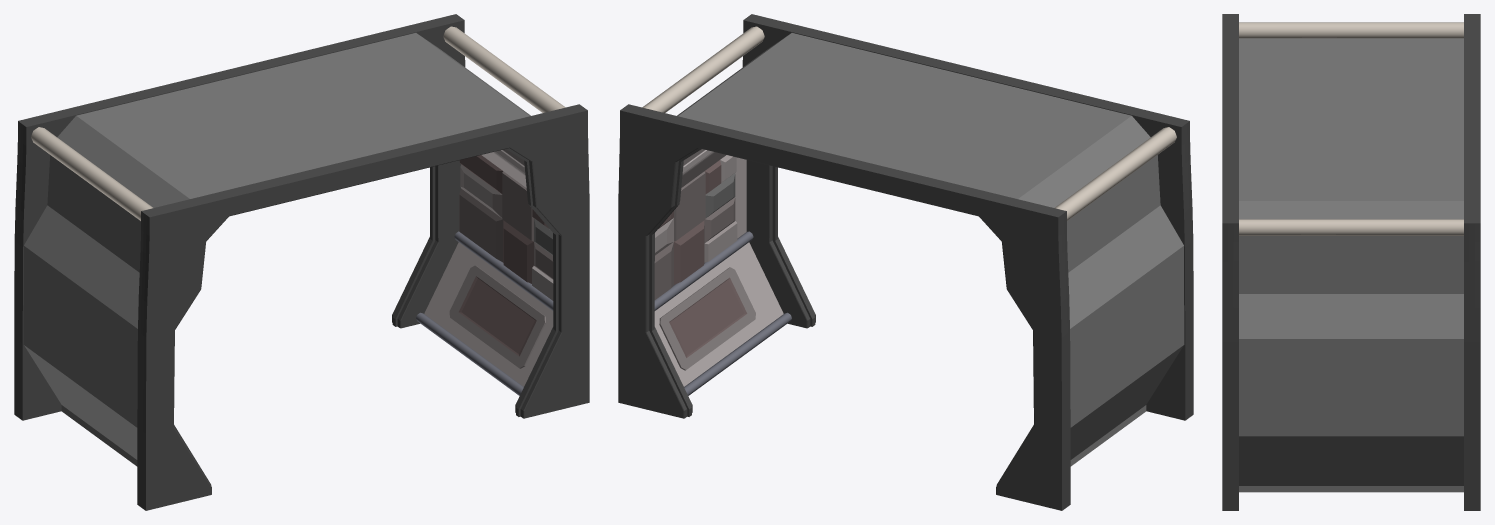
The model's file is Hallway_Module_StraightHalf_01.glb.
The picture shows the model from 3 angles, left to right: view 1: azimuth 30°, elevation 25°; view 2: azimuth 150°, elevation 25°; view 3: azimuth 270°, elevation 25°; orthographic projection. The views are drawn at different scales.
Visible parts, largest first — view 1: Hallway_Module_StraightHalf_01; view 2: Hallway_Module_StraightHalf_01; view 3: Hallway_Module_StraightHalf_01.
Boxes of the visible parts, x1,y1,x2,y2 form: Hallway_Module_StraightHalf_01: (14,14,589,510); Hallway_Module_StraightHalf_01: (618,14,1193,510); Hallway_Module_StraightHalf_01: (1222,14,1480,510).
Size of what is drawn, in the model's own units: 6.03 by 3.82 by 3.1.
Materials: 1 (1 with a texture image).
